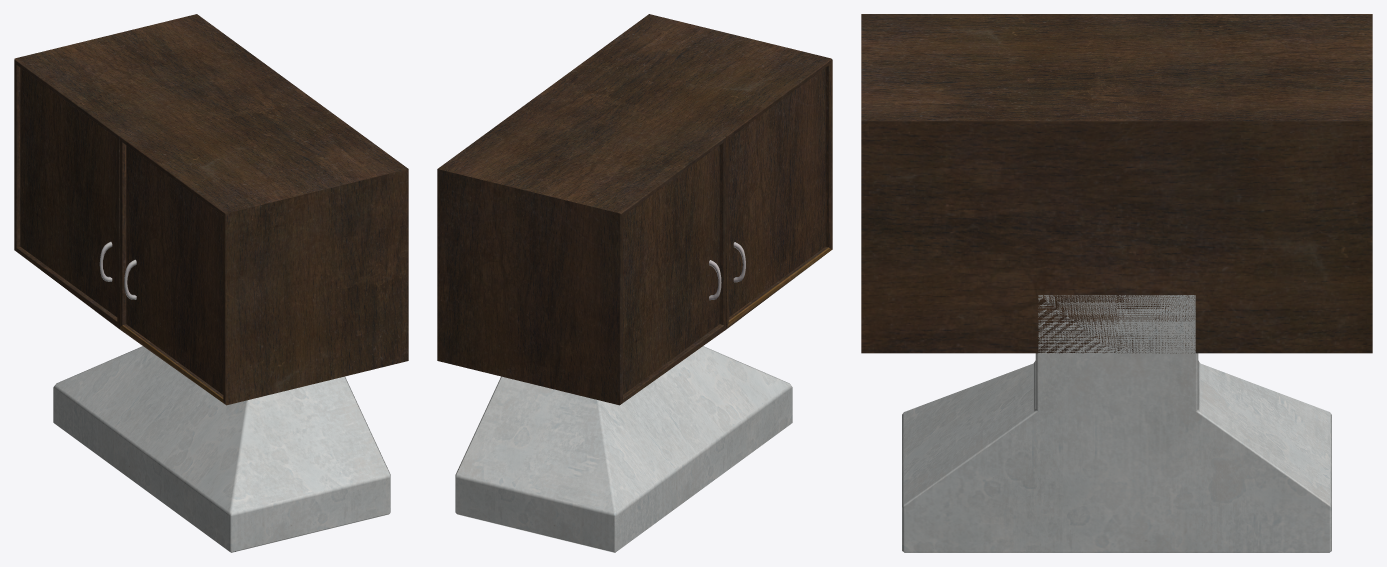
File: SM_KitchenCounter_UpperVent_01a.fbx
The picture shows the model from 3 angles, left to right: view 1: azimuth 30°, elevation 25°; view 2: azimuth 150°, elevation 25°; view 3: azimuth 270°, elevation 25°; orthographic projection. The views are drawn at different scales.
Parts seen in each view (by area): view 1: SM_KitchenCounter_UpperVent_01a_LOD0; view 2: SM_KitchenCounter_UpperVent_01a_LOD0; view 3: SM_KitchenCounter_UpperVent_01a_LOD0.
Part boxes in pixels (left/top/right/bottom): SM_KitchenCounter_UpperVent_01a_LOD0: left=14, top=14, right=408, bottom=552; SM_KitchenCounter_UpperVent_01a_LOD0: left=437, top=14, right=832, bottom=552; SM_KitchenCounter_UpperVent_01a_LOD0: left=861, top=14, right=1372, bottom=552.
Bounding box in the file's own units: 51.99 × 100 × 93.31.
